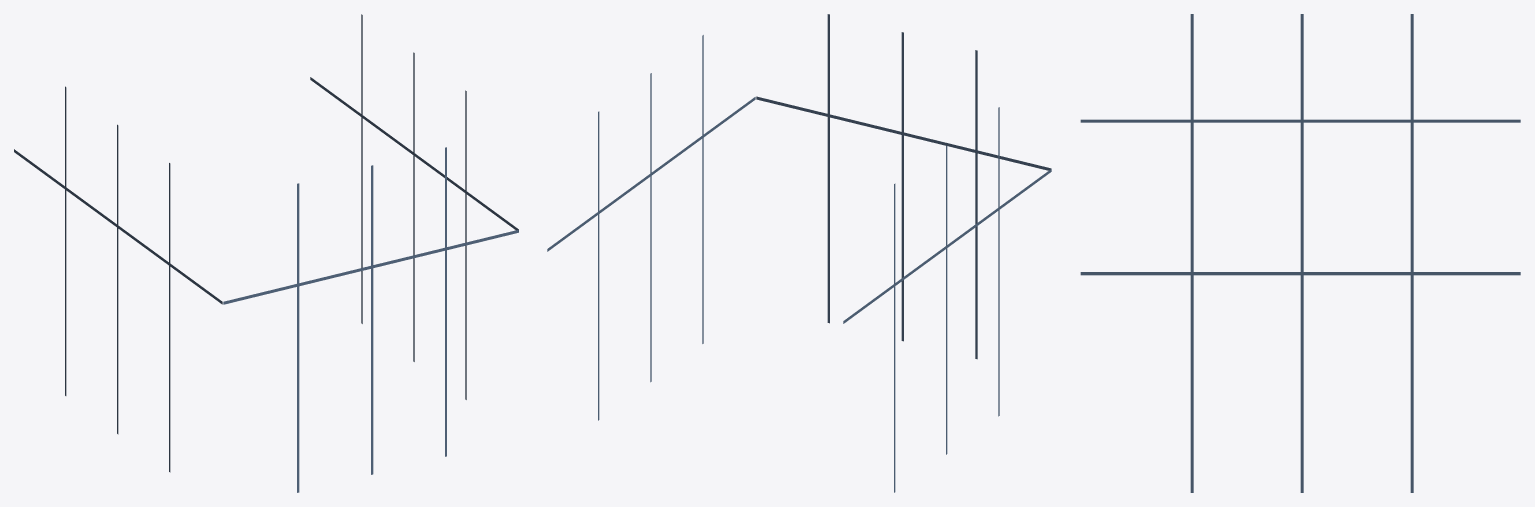
The model's file is SM_MM_N05_Facade.fbx.
3 renders of one model, left to right at view 1: azimuth 30°, elevation 25°; view 2: azimuth 150°, elevation 25°; view 3: azimuth 270°, elevation 25°, orthographic. The views are drawn at different scales.
Visible parts, largest first — view 1: SM_MM_N05_Facade; view 2: SM_MM_N05_Facade; view 3: SM_MM_N05_Facade.
Part boxes in pixels (<box>): SM_MM_N05_Facade: <box>14,14,518,492</box>; SM_MM_N05_Facade: <box>547,14,1051,492</box>; SM_MM_N05_Facade: <box>1080,14,1520,492</box>.
Bounding box in the file's own units: 18.05 × 22.03 × 18.
